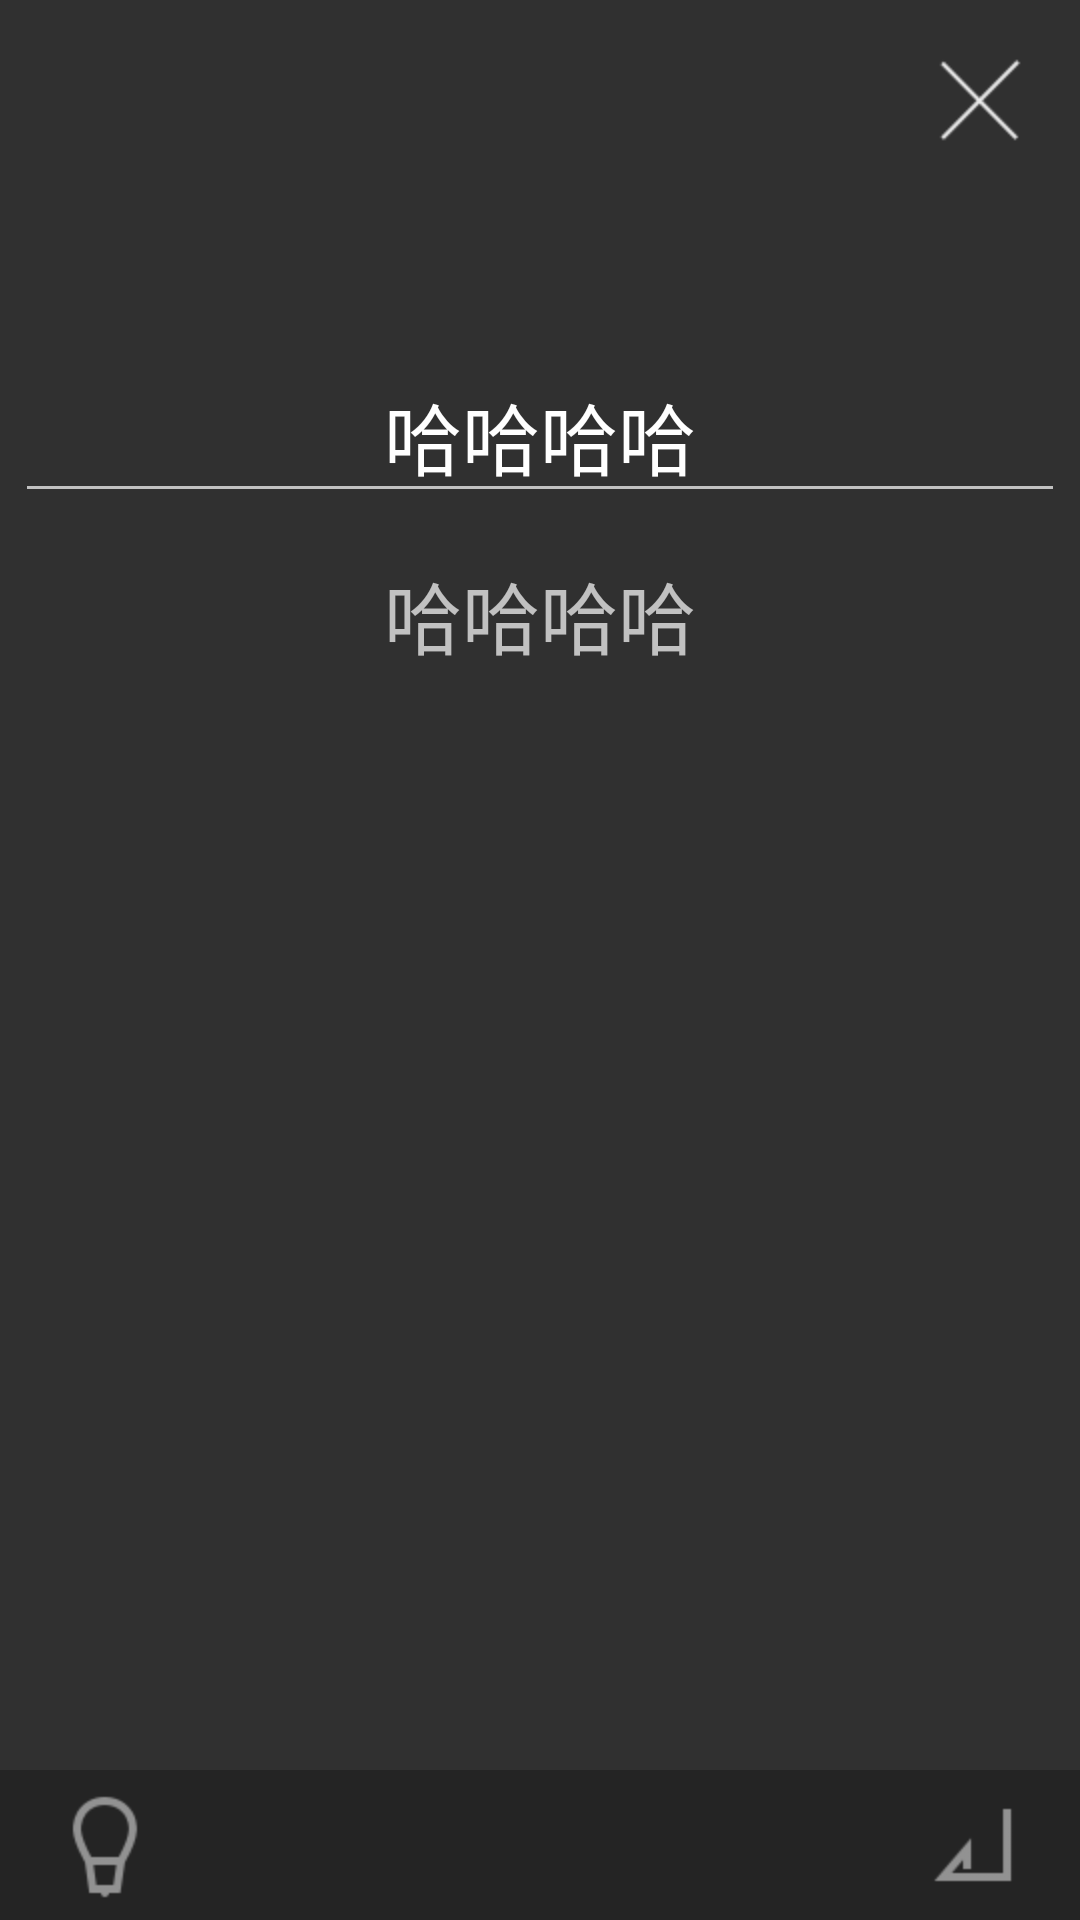

Where icons sit on this 1080 × 1920 app screen, as region(x1, y1, x2, y2):
spell confirm: region(935, 1808, 1012, 1882)
spell prompt: region(72, 1796, 137, 1897)
